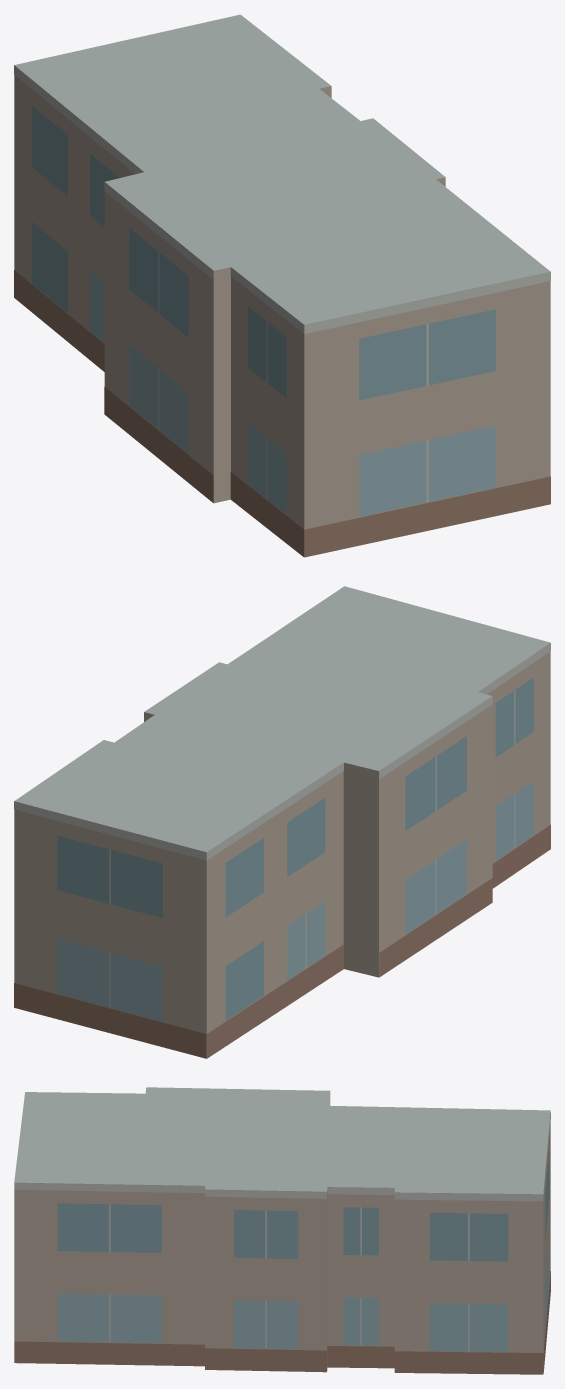
File: survey-upis-33005996.glb
The picture shows the model from 3 angles, top to bottom: view 1: azimuth 30°, elevation 25°; view 2: azimuth 150°, elevation 25°; view 3: azimuth 270°, elevation 25°; orthographic projection. The views are drawn at different scales.
Visible parts, largest first — view 1: survey-upis-33005996.tmp; view 2: survey-upis-33005996.tmp; view 3: survey-upis-33005996.tmp.
Boxes of the visible parts, x1,y1,x2,y2 form: survey-upis-33005996.tmp: (14,14,550,557); survey-upis-33005996.tmp: (14,586,550,1058); survey-upis-33005996.tmp: (14,1087,550,1374).
Size of the model in its own units: 7.77 by 6.1 by 16.46.
